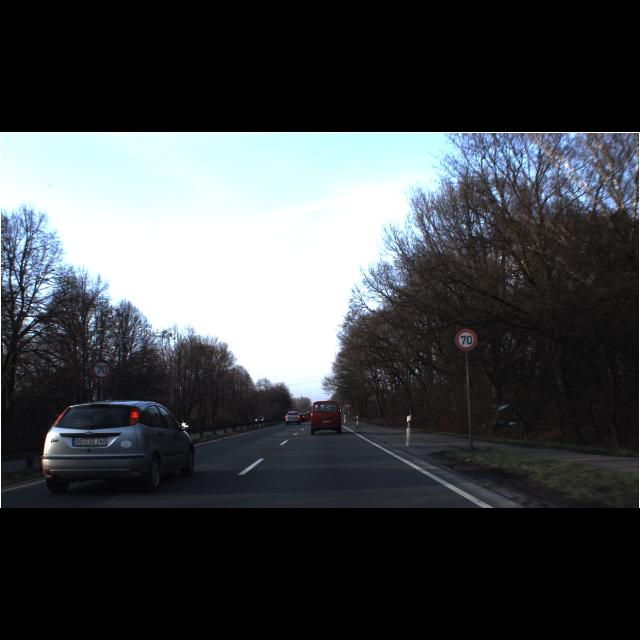prohibitory: (455, 329, 477, 351), (90, 358, 112, 379)
